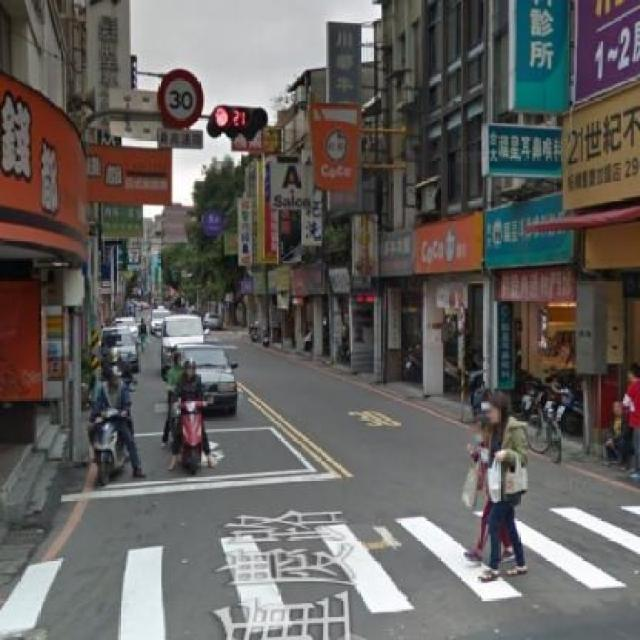forb_speed_over_30: (159, 68, 202, 129)
